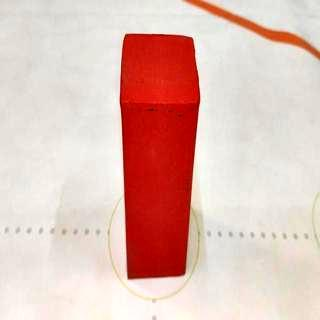redbox: (120, 32, 201, 282)
